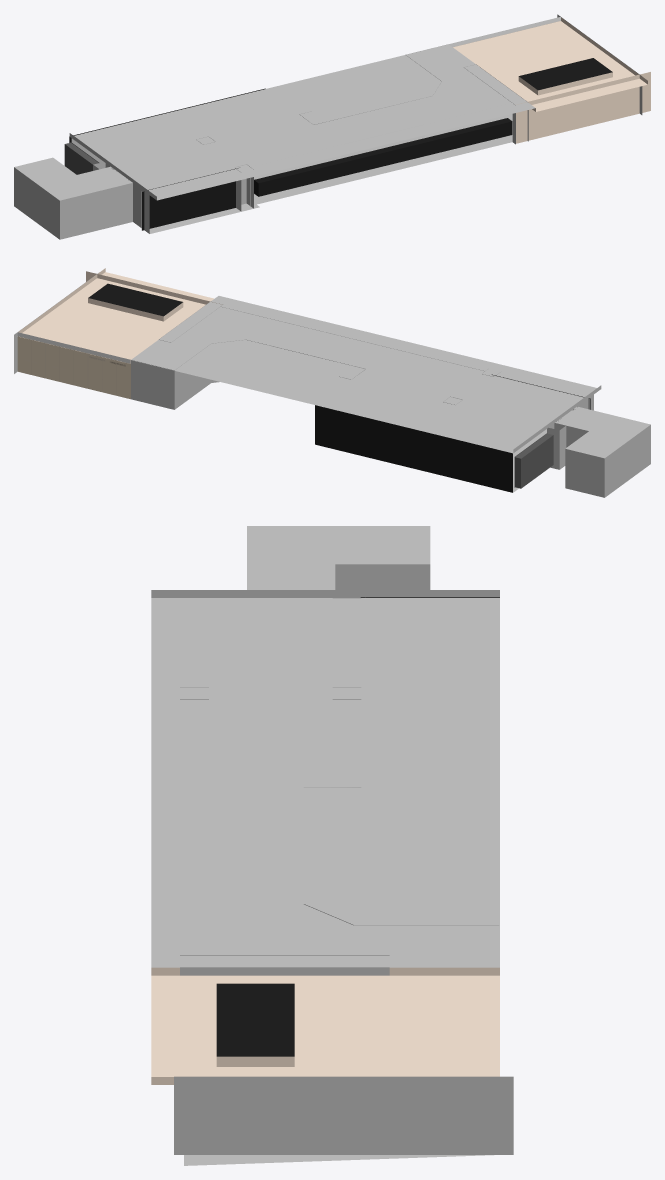
The model's file is salaSensaciones.FBX.
The picture shows the model from 3 angles, top to bottom: view 1: azimuth 30°, elevation 25°; view 2: azimuth 150°, elevation 25°; view 3: azimuth 270°, elevation 25°; orthographic projection. The views are drawn at different scales.
Parts seen in each view (by area): view 1: salaSensaciones, videoWall_tactil, vitrinaCamisetas, videoWall_jugadores; view 2: salaSensaciones, videoWall_jugadores, vitrinaCamisetas; view 3: salaSensaciones.
Boxes of the visible parts, x1,y1,x2,y2 form: salaSensaciones: (14,14,650,239); videoWall_tactil: (141,167,239,230); vitrinaCamisetas: (64,142,99,174); videoWall_jugadores: (69,88,265,162); salaSensaciones: (14,268,650,497); videoWall_jugadores: (315,405,512,492); vitrinaCamisetas: (514,433,553,488); salaSensaciones: (151,526,513,1165).
Size of what is drawn, in the model's own units: 1817 by 129 by 496.
